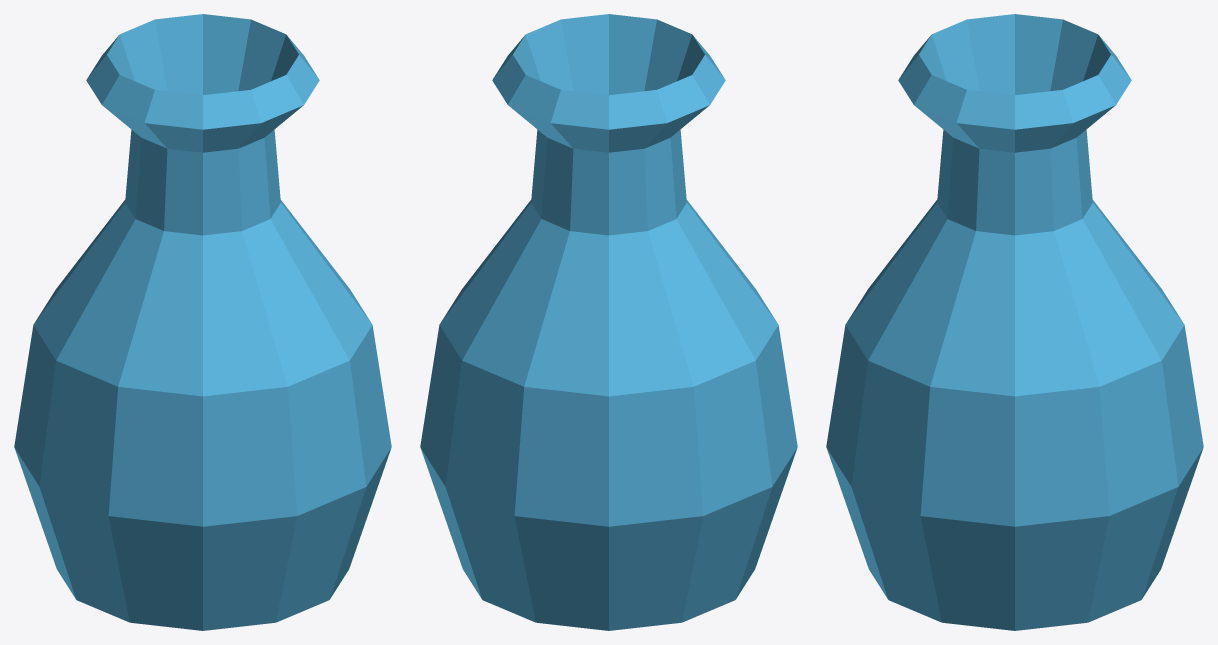
Rendered from vase.fbx.
3 views of the same model, side by side, from view 1: azimuth 30°, elevation 25°; view 2: azimuth 150°, elevation 25°; view 3: azimuth 270°, elevation 25° (orthographic).
Visible parts, largest first — view 1: Cylinder; view 2: Cylinder; view 3: Cylinder.
Part boxes in pixels (left/top/right/bottom): Cylinder: left=14, top=14, right=391, bottom=630; Cylinder: left=420, top=14, right=797, bottom=630; Cylinder: left=826, top=14, right=1203, bottom=630.
Bounding box in the file's own units: 33.6 × 50.53 × 33.6.
